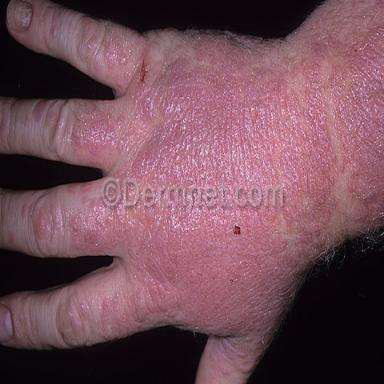lichen: (66, 0, 384, 334), (102, 32, 127, 69), (34, 204, 54, 241), (33, 100, 54, 120)
